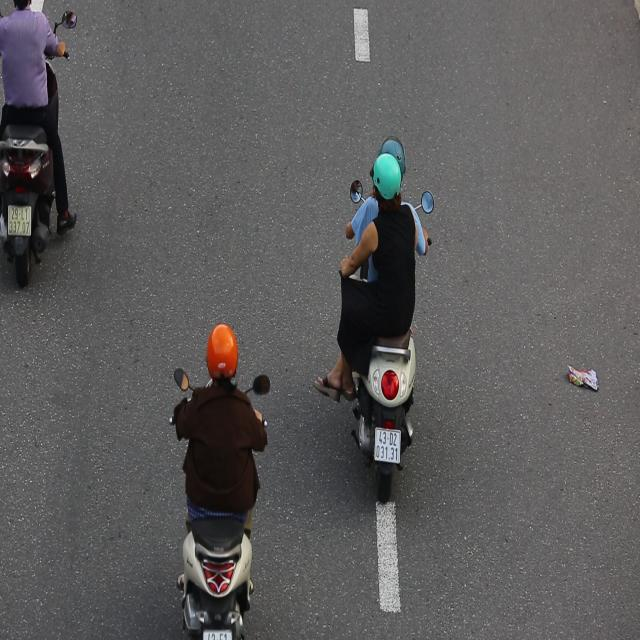motorbike: (332, 125, 438, 504)
